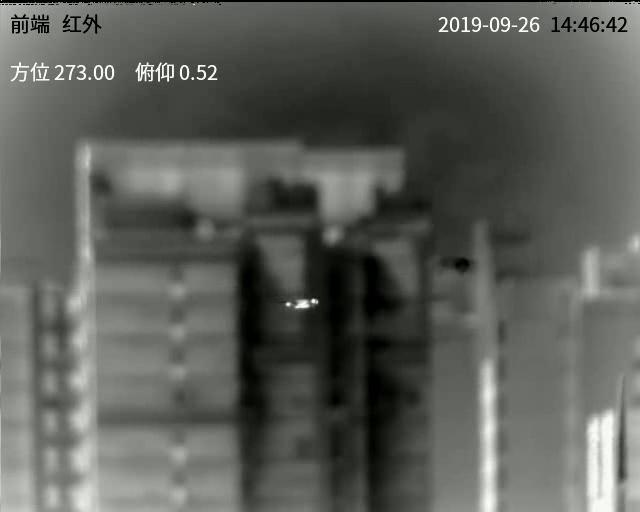DRONE: (282, 297, 321, 311)
